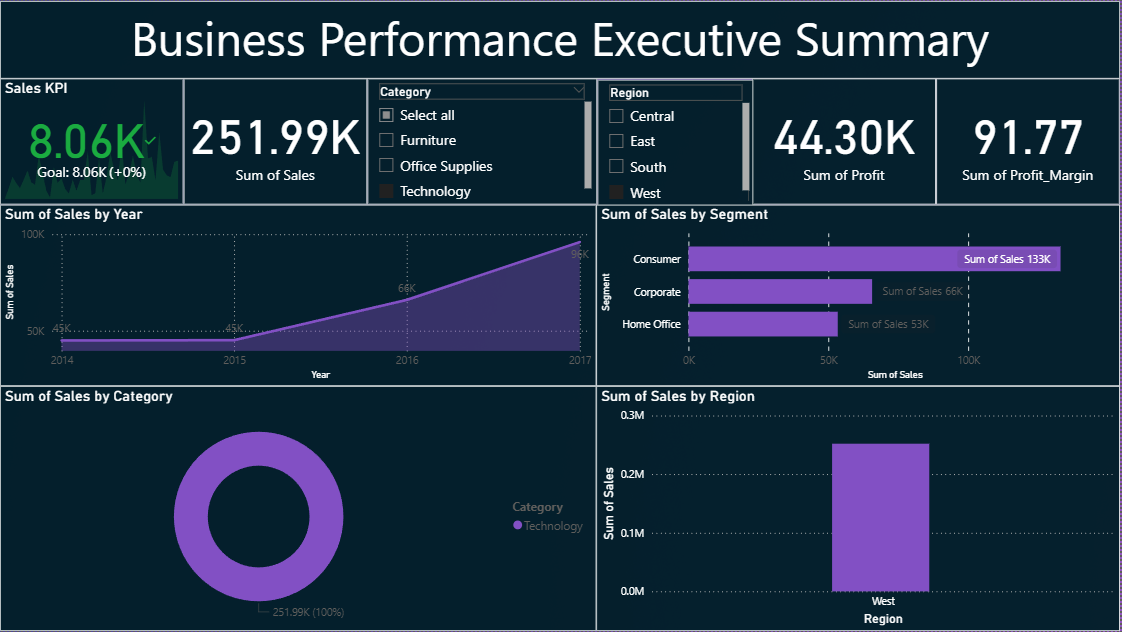

The page's visual inventory and layout, read from the dashboard file:
{"tool":"powerbi","page":{"name":"Page 1","canvas":[1280,720],"ordinal":0},"visuals":[{"type":"lineChart","fields":{"Category":["Superstore_clean.MonthYear.Variation.Date Hierarchy.Year","Superstore_clean.MonthYear.Variation.Date Hierarchy.Quarter","Superstore_clean.MonthYear.Variation.Date Hierarchy.Month","Superstore_clean.MonthYear.Variation.Date Hierarchy.Day"],"Y":["Sum(Superstore_clean.Sales)"]},"box":[0,233.3,682,207.2],"z":0},{"type":"clusteredColumnChart","fields":{"Category":["Superstore_clean.Region"],"Y":["Sum(Superstore_clean.Sales)"]},"box":[682,440.5,598.3,279.9],"z":1000},{"type":"donutChart","fields":{"Category":["Superstore_clean.Category"],"Y":["Sum(Superstore_clean.Sales)"]},"box":[0,440.5,682,279.9],"z":2000},{"type":"kpi","title":"Sales KPI","fields":{"Indicator":["Sum(Superstore_clean.Sales)"],"TrendLine":["Superstore_clean.YearMonth"],"Goal":["Sum(Superstore_clean.Sales)"]},"box":[0,89.2,209.9,144.1],"z":3000},{"type":"slicer","fields":{"Values":["Superstore_clean.Region"]},"box":[682.9,89.6,179.1,144.3],"z":4000},{"type":"slicer","fields":{"Values":["Superstore_clean.Category"]},"box":[419.9,89.2,262.1,144.1],"z":5000},{"type":"card","fields":{"Values":["Sum(Superstore_clean.Sales)"]},"box":[209.9,89.2,209.9,144.1],"z":6000},{"type":"card","fields":{"Values":["Sum(Superstore_clean.Profit)"]},"box":[860.4,89.2,209.9,144.1],"z":7000},{"type":"card","fields":{"Values":["Sum(Superstore_clean.Profit_Margin)"]},"box":[1070.3,89.2,209.9,144.1],"z":8000},{"type":"clusteredBarChart","fields":{"Category":["Superstore_clean.Segment"],"Y":["Sum(Superstore_clean.Sales)"]},"box":[682,233.3,598.3,207.2],"z":9000},{"type":"textbox","box":[0,0,1280.3,89.2],"z":10000}]}

Visuals, with their boxes in screenshot pixels (x1, y1, x2, y2), scaled from the page's 1280x720 canvas onto the 1122x632 screenshot:
lineChart - Superstore_clean.MonthYear.Variation.Date Hierarchy.Year x Superstore_clean.MonthYear.Variation.Date Hierarchy.Quarter: 0/205/598/387
clusteredColumnChart - Superstore_clean.Region x Sum(Superstore_clean.Sales): 598/387/1121/631
donutChart - Superstore_clean.Category x Sum(Superstore_clean.Sales): 0/387/598/631
"Sales KPI" kpi: 0/78/184/205
slicer - Superstore_clean.Region: 599/79/756/205
slicer - Superstore_clean.Category: 368/78/598/205
card - Sum(Superstore_clean.Sales): 184/78/368/205
card - Sum(Superstore_clean.Profit): 754/78/938/205
card - Sum(Superstore_clean.Profit_Margin): 938/78/1121/205
clusteredBarChart - Superstore_clean.Segment x Sum(Superstore_clean.Sales): 598/205/1121/387
textbox: 0/0/1121/78
